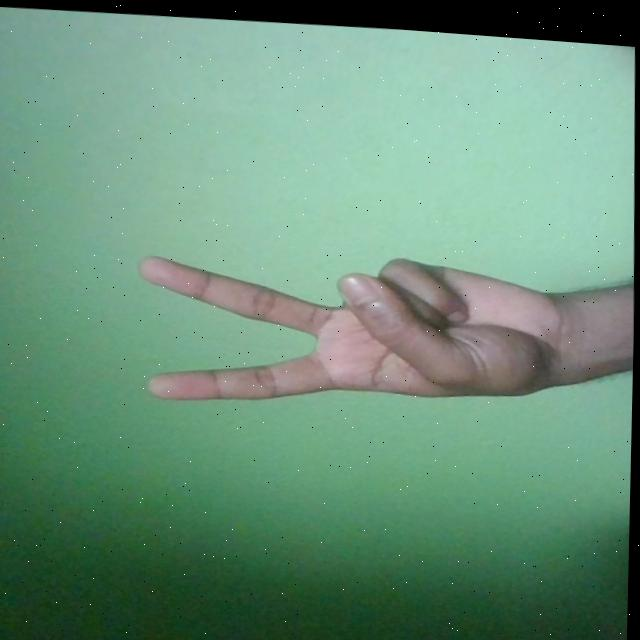Peace: (132, 232, 576, 419)
